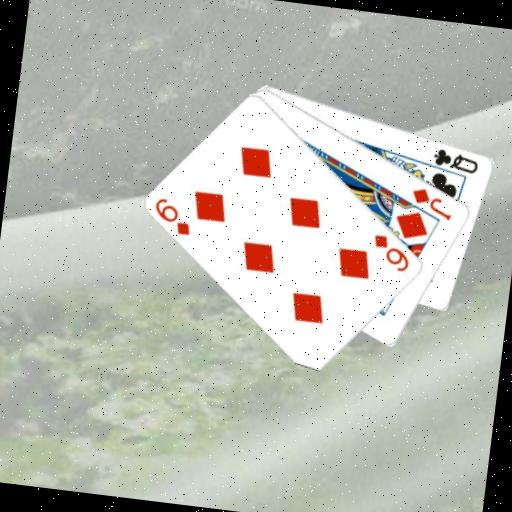6D: (149, 194, 197, 238), (368, 230, 415, 274)
JD: (407, 184, 457, 223)
QC: (429, 145, 482, 176)
